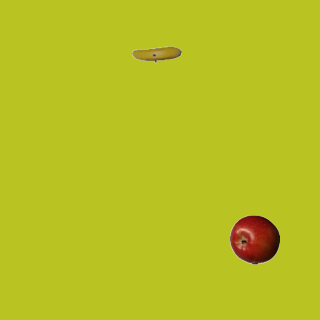Apple Braeburn: (229, 214, 279, 264)
Banana: (131, 29, 181, 79)
